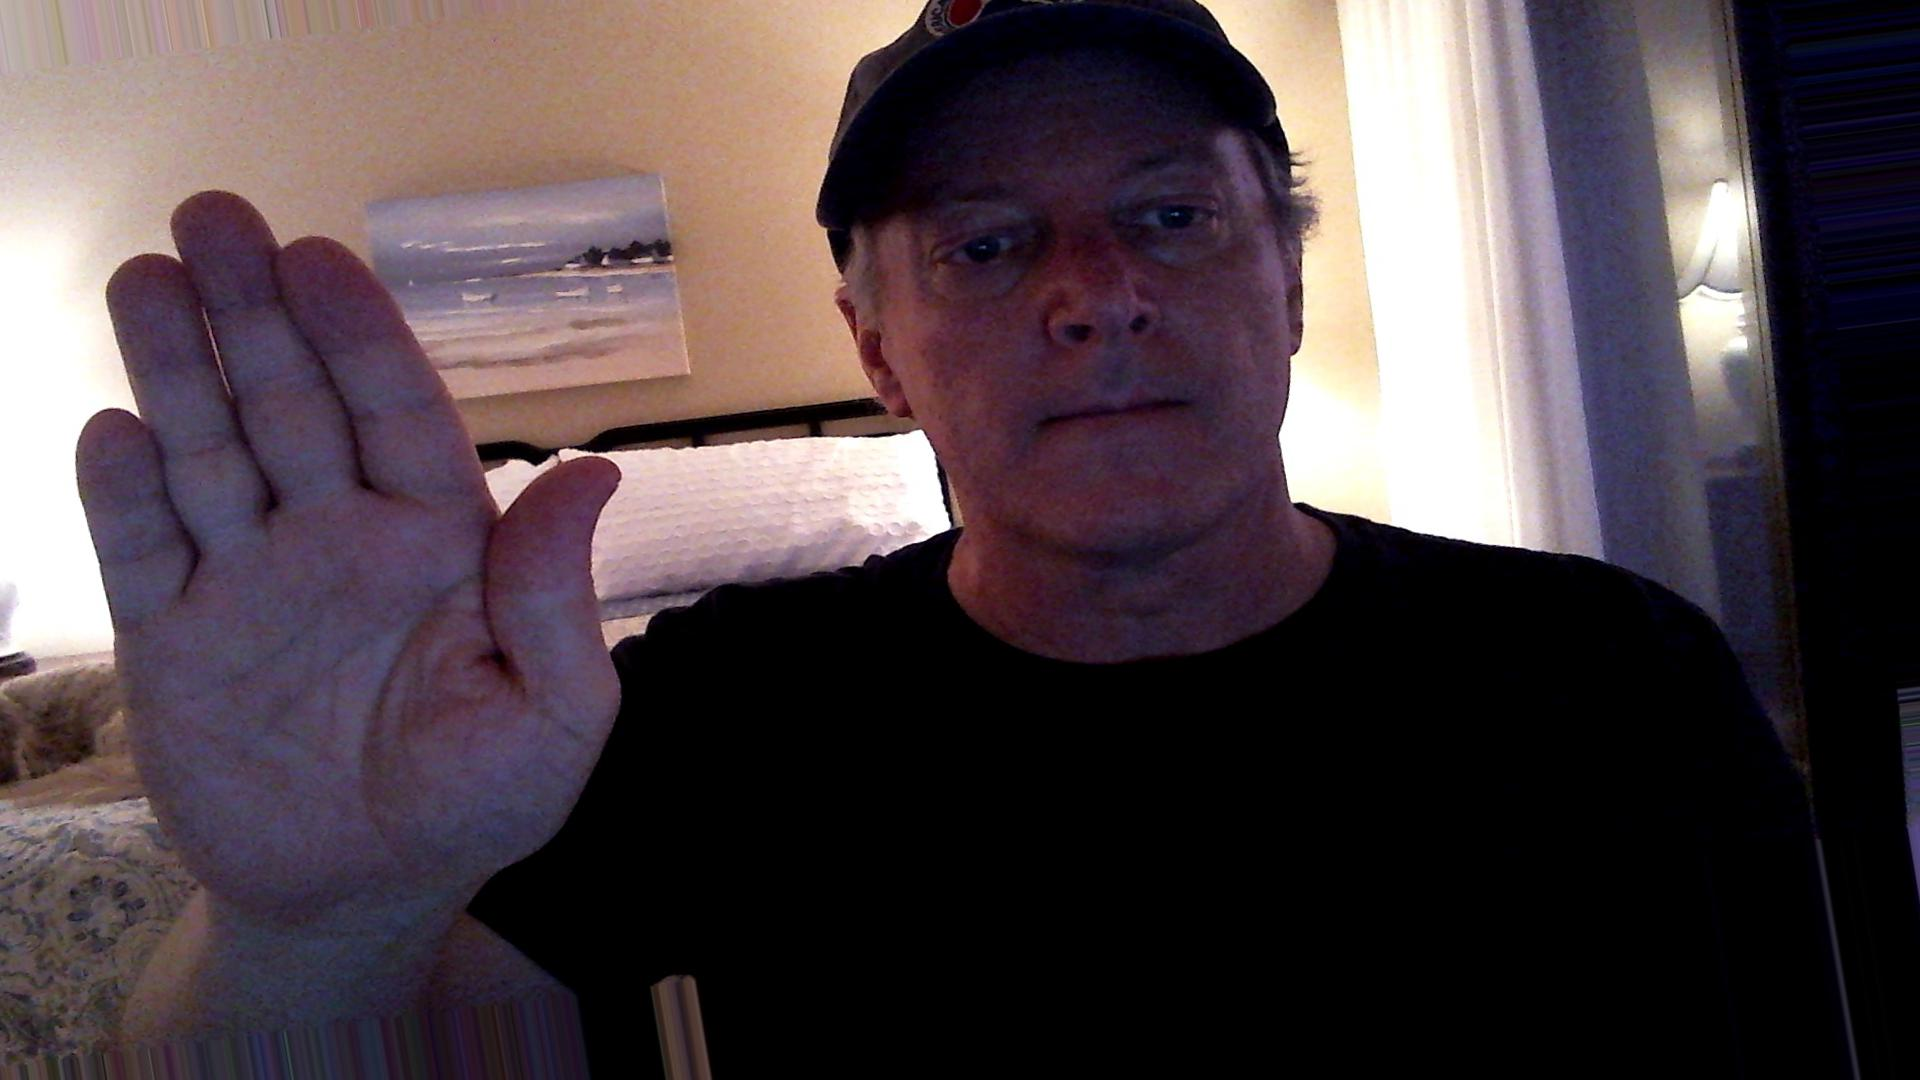Hello: (67, 178, 641, 928)
